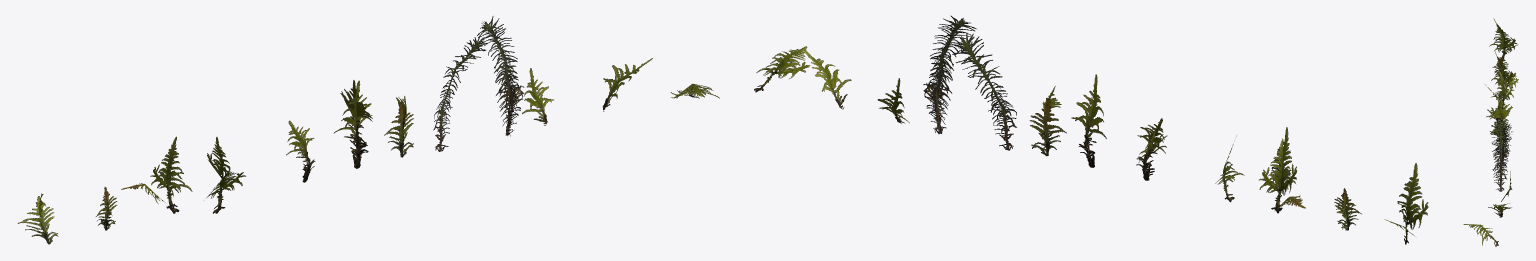
Rendered from moss_01.gltf.
3 views of the same model, side by side, from view 1: azimuth 30°, elevation 25°; view 2: azimuth 150°, elevation 25°; view 3: azimuth 270°, elevation 25° (orthographic). The views are drawn at different scales.
Visible parts, largest first — view 1: moss_01_tall_b_LOD0, moss_01_f_LOD0, moss_01_tall_a_LOD0, moss_01_c_LOD0, moss_01_d_LOD0, moss_01_g_LOD0, moss_01_a_LOD0, moss_01_h_LOD0, moss_01_e_LOD0, moss_01_i_LOD0, moss_01_b_LOD0; view 2: moss_01_tall_b_LOD0, moss_01_tall_a_LOD0, moss_01_c_LOD0, moss_01_f_LOD0, moss_01_a_LOD0, moss_01_g_LOD0, moss_01_j_LOD0, moss_01_e_LOD0, moss_01_i_LOD0, moss_01_b_LOD0, moss_01_h_LOD0; view 3: moss_01_tall_b_LOD0, moss_01_a_LOD0, moss_01_c_LOD0, moss_01_d_LOD0, moss_01_tall_a_LOD0, moss_01_f_LOD0, moss_01_j_LOD0, moss_01_i_LOD0, moss_01_e_LOD0, moss_01_b_LOD0, moss_01_g_LOD0, moss_01_h_LOD0.
Part boxes in pixels (x1,y1,x2,y2): moss_01_tall_b_LOD0: (477, 16, 524, 136); moss_01_f_LOD0: (333, 80, 372, 168); moss_01_tall_a_LOD0: (433, 36, 486, 151); moss_01_c_LOD0: (121, 136, 192, 213); moss_01_d_LOD0: (206, 137, 245, 213); moss_01_g_LOD0: (384, 96, 413, 157); moss_01_a_LOD0: (17, 193, 58, 244); moss_01_h_LOD0: (522, 68, 553, 125); moss_01_e_LOD0: (286, 120, 315, 182); moss_01_i_LOD0: (602, 58, 652, 111); moss_01_b_LOD0: (96, 187, 117, 230); moss_01_tall_b_LOD0: (923, 15, 976, 134); moss_01_tall_a_LOD0: (952, 33, 1016, 150); moss_01_c_LOD0: (1259, 127, 1305, 213); moss_01_f_LOD0: (1071, 74, 1106, 167); moss_01_a_LOD0: (1384, 163, 1428, 244); moss_01_g_LOD0: (1029, 86, 1066, 156); moss_01_j_LOD0: (754, 46, 810, 92); moss_01_e_LOD0: (1136, 118, 1167, 180); moss_01_i_LOD0: (801, 48, 851, 109); moss_01_b_LOD0: (1334, 188, 1361, 230); moss_01_h_LOD0: (877, 78, 909, 123); moss_01_tall_b_LOD0: (1490, 118, 1510, 191); moss_01_a_LOD0: (1489, 18, 1518, 60); moss_01_c_LOD0: (1491, 50, 1518, 96); moss_01_d_LOD0: (1485, 70, 1514, 108); moss_01_tall_a_LOD0: (1493, 123, 1512, 171); moss_01_f_LOD0: (1489, 97, 1512, 139); moss_01_j_LOD0: (1463, 224, 1498, 246); moss_01_i_LOD0: (1488, 203, 1511, 217); moss_01_e_LOD0: (1486, 93, 1508, 129); moss_01_b_LOD0: (1492, 55, 1508, 77); moss_01_g_LOD0: (1490, 122, 1506, 151); moss_01_h_LOD0: (1501, 171, 1512, 201).
Size of the model in its own units: 0.2153 by 0.0404 by 0.0294.
1 material, 1 textured.
